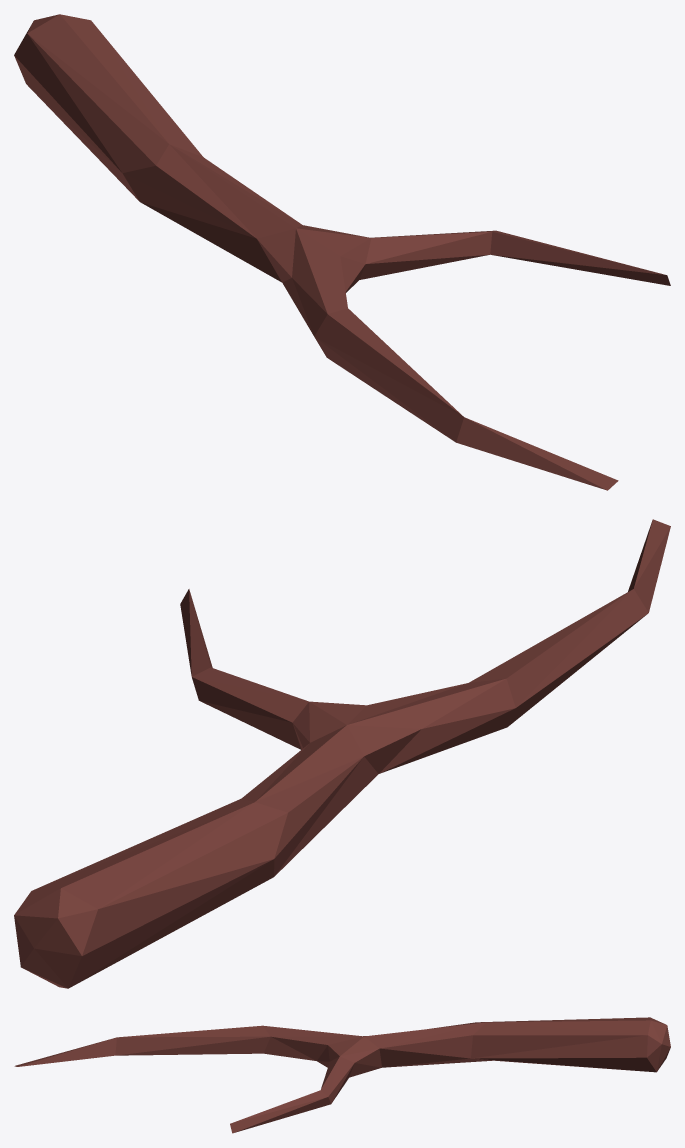
File: Branch01.fbx
3 renders of one model, top to bottom at view 1: azimuth 30°, elevation 25°; view 2: azimuth 150°, elevation 25°; view 3: azimuth 270°, elevation 25°, orthographic. The views are drawn at different scales.
Visible parts, largest first — view 1: Branch_01; view 2: Branch_01; view 3: Branch_01.
Part boxes in pixels (x1,y1,x2,y2): Branch_01: (14, 14, 670, 490); Branch_01: (14, 519, 670, 988); Branch_01: (14, 1017, 670, 1133).
Size of the model in its own units: 53.06 by 13.47 by 158.
